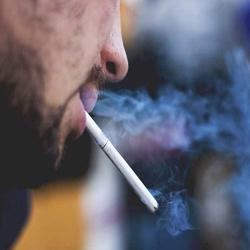smoking: (60, 77, 170, 218)
